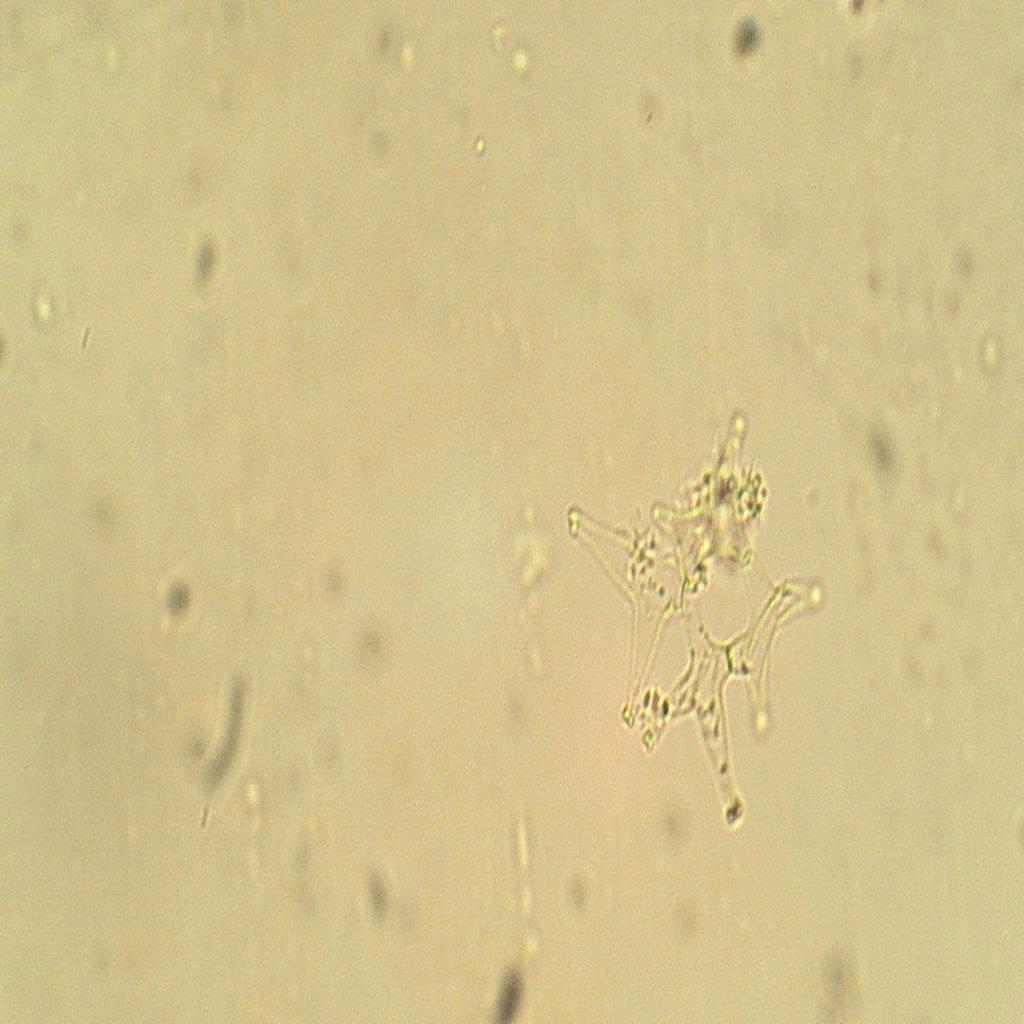Pediastrum_1F0: (550, 362, 846, 853)
